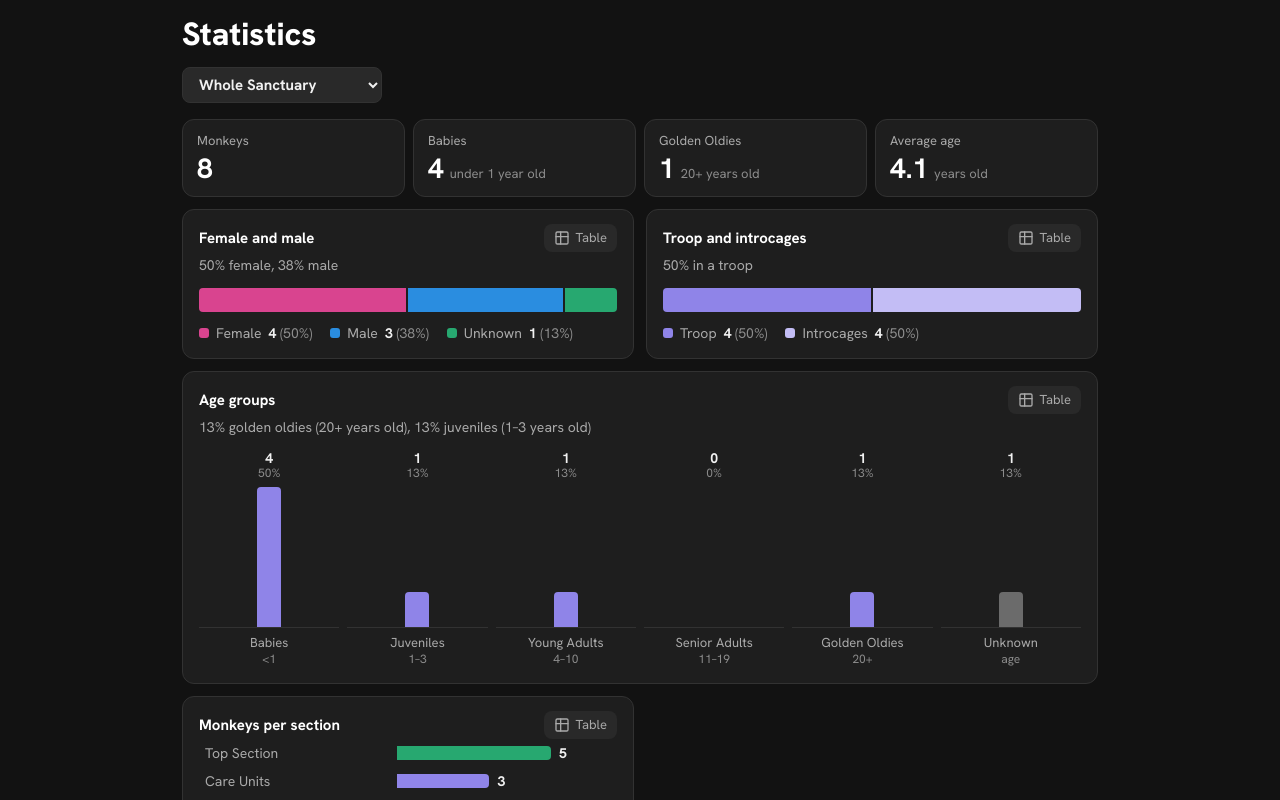
Test case: Baby Care › its own tiles, no sections, introcages or age groups; the charts wait for records
Select "Baby Care" in the dropdown named "Show statistics for": (282, 85) [182,67,382,103]
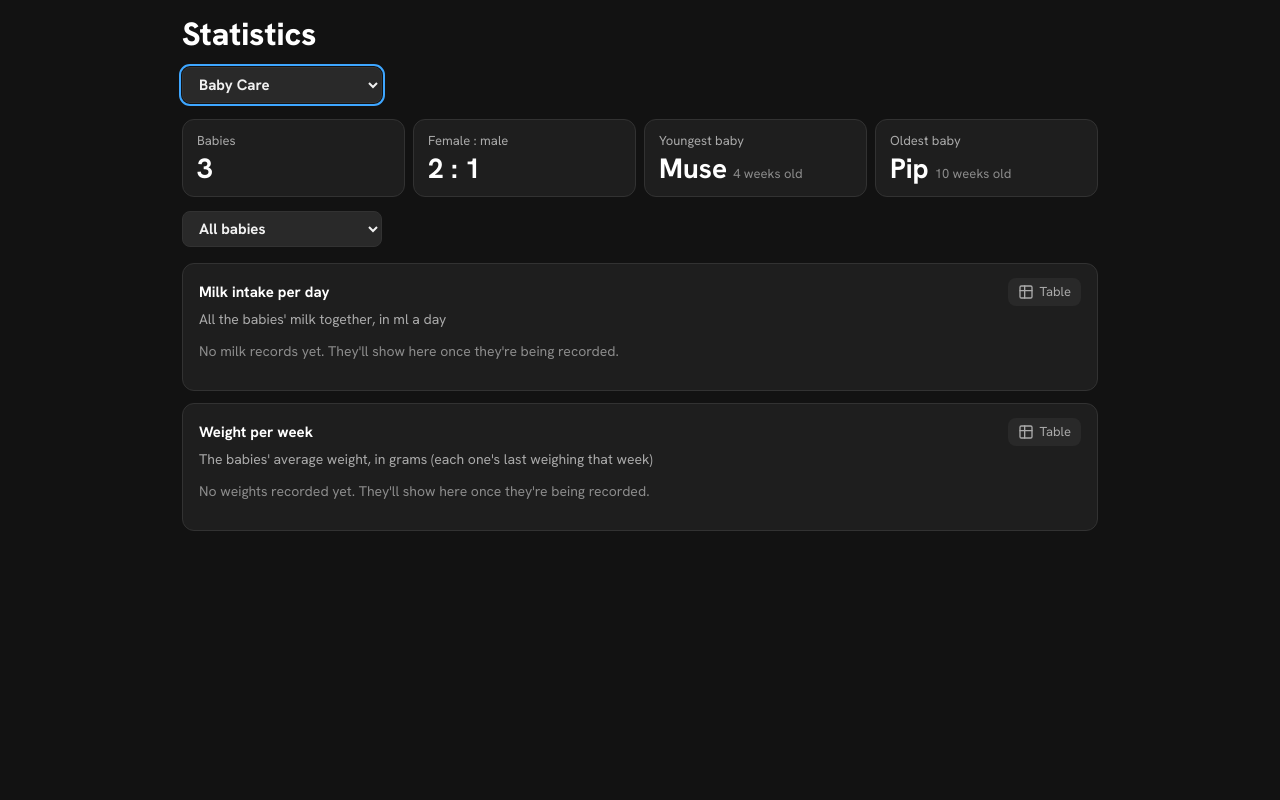
Check: the text "Babies" shows "3", box [197,150,213,186]
Check: the text "Female : male" shows "2 : 1", box [428,150,481,186]
Check: the text "Youngest baby" shows "Muse", box [659,150,727,186]
